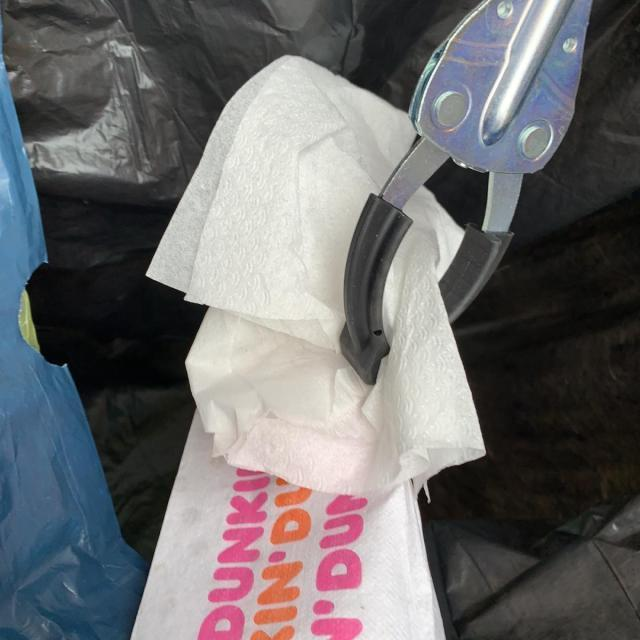Paper: (143, 51, 490, 508), (123, 405, 450, 640)
